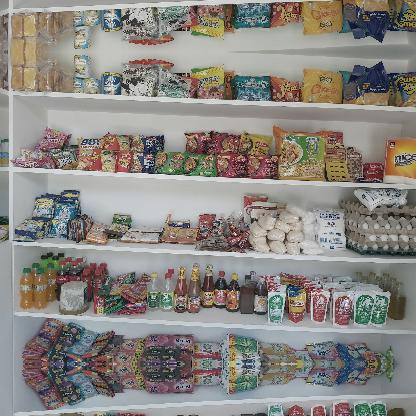Lady-s-Choice: (58, 278, 90, 314)
